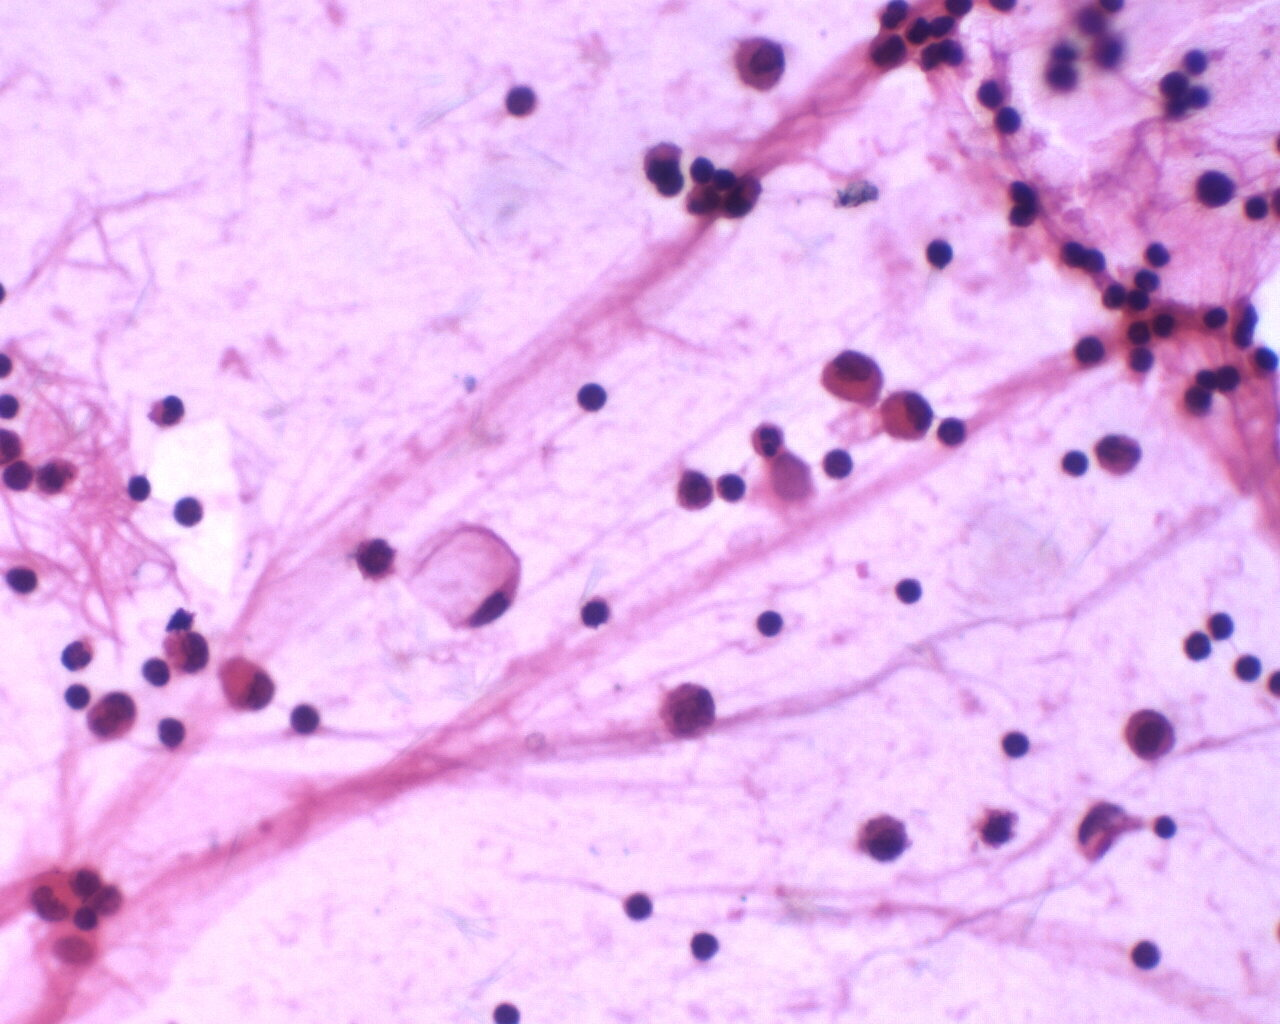ab: (1117, 703, 1187, 763), (728, 32, 791, 96)
histo: (401, 523, 535, 638)
lymph: (819, 442, 860, 487), (153, 711, 193, 753), (167, 489, 209, 530), (998, 723, 1037, 767), (283, 702, 329, 739), (1127, 936, 1170, 975), (504, 79, 540, 123), (576, 379, 615, 418), (920, 231, 960, 269), (61, 681, 103, 717), (887, 571, 927, 607), (686, 925, 721, 963), (1056, 441, 1089, 480), (624, 886, 654, 927), (755, 603, 788, 639), (1234, 651, 1266, 685)
meso: (880, 383, 936, 448)
neutro: (745, 417, 785, 464)
